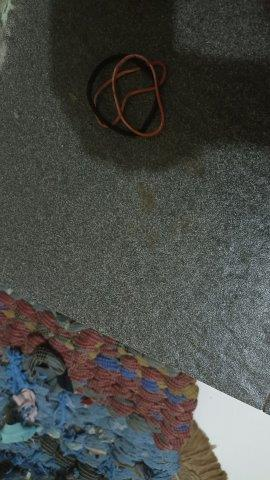karet: (86, 54, 168, 138)
